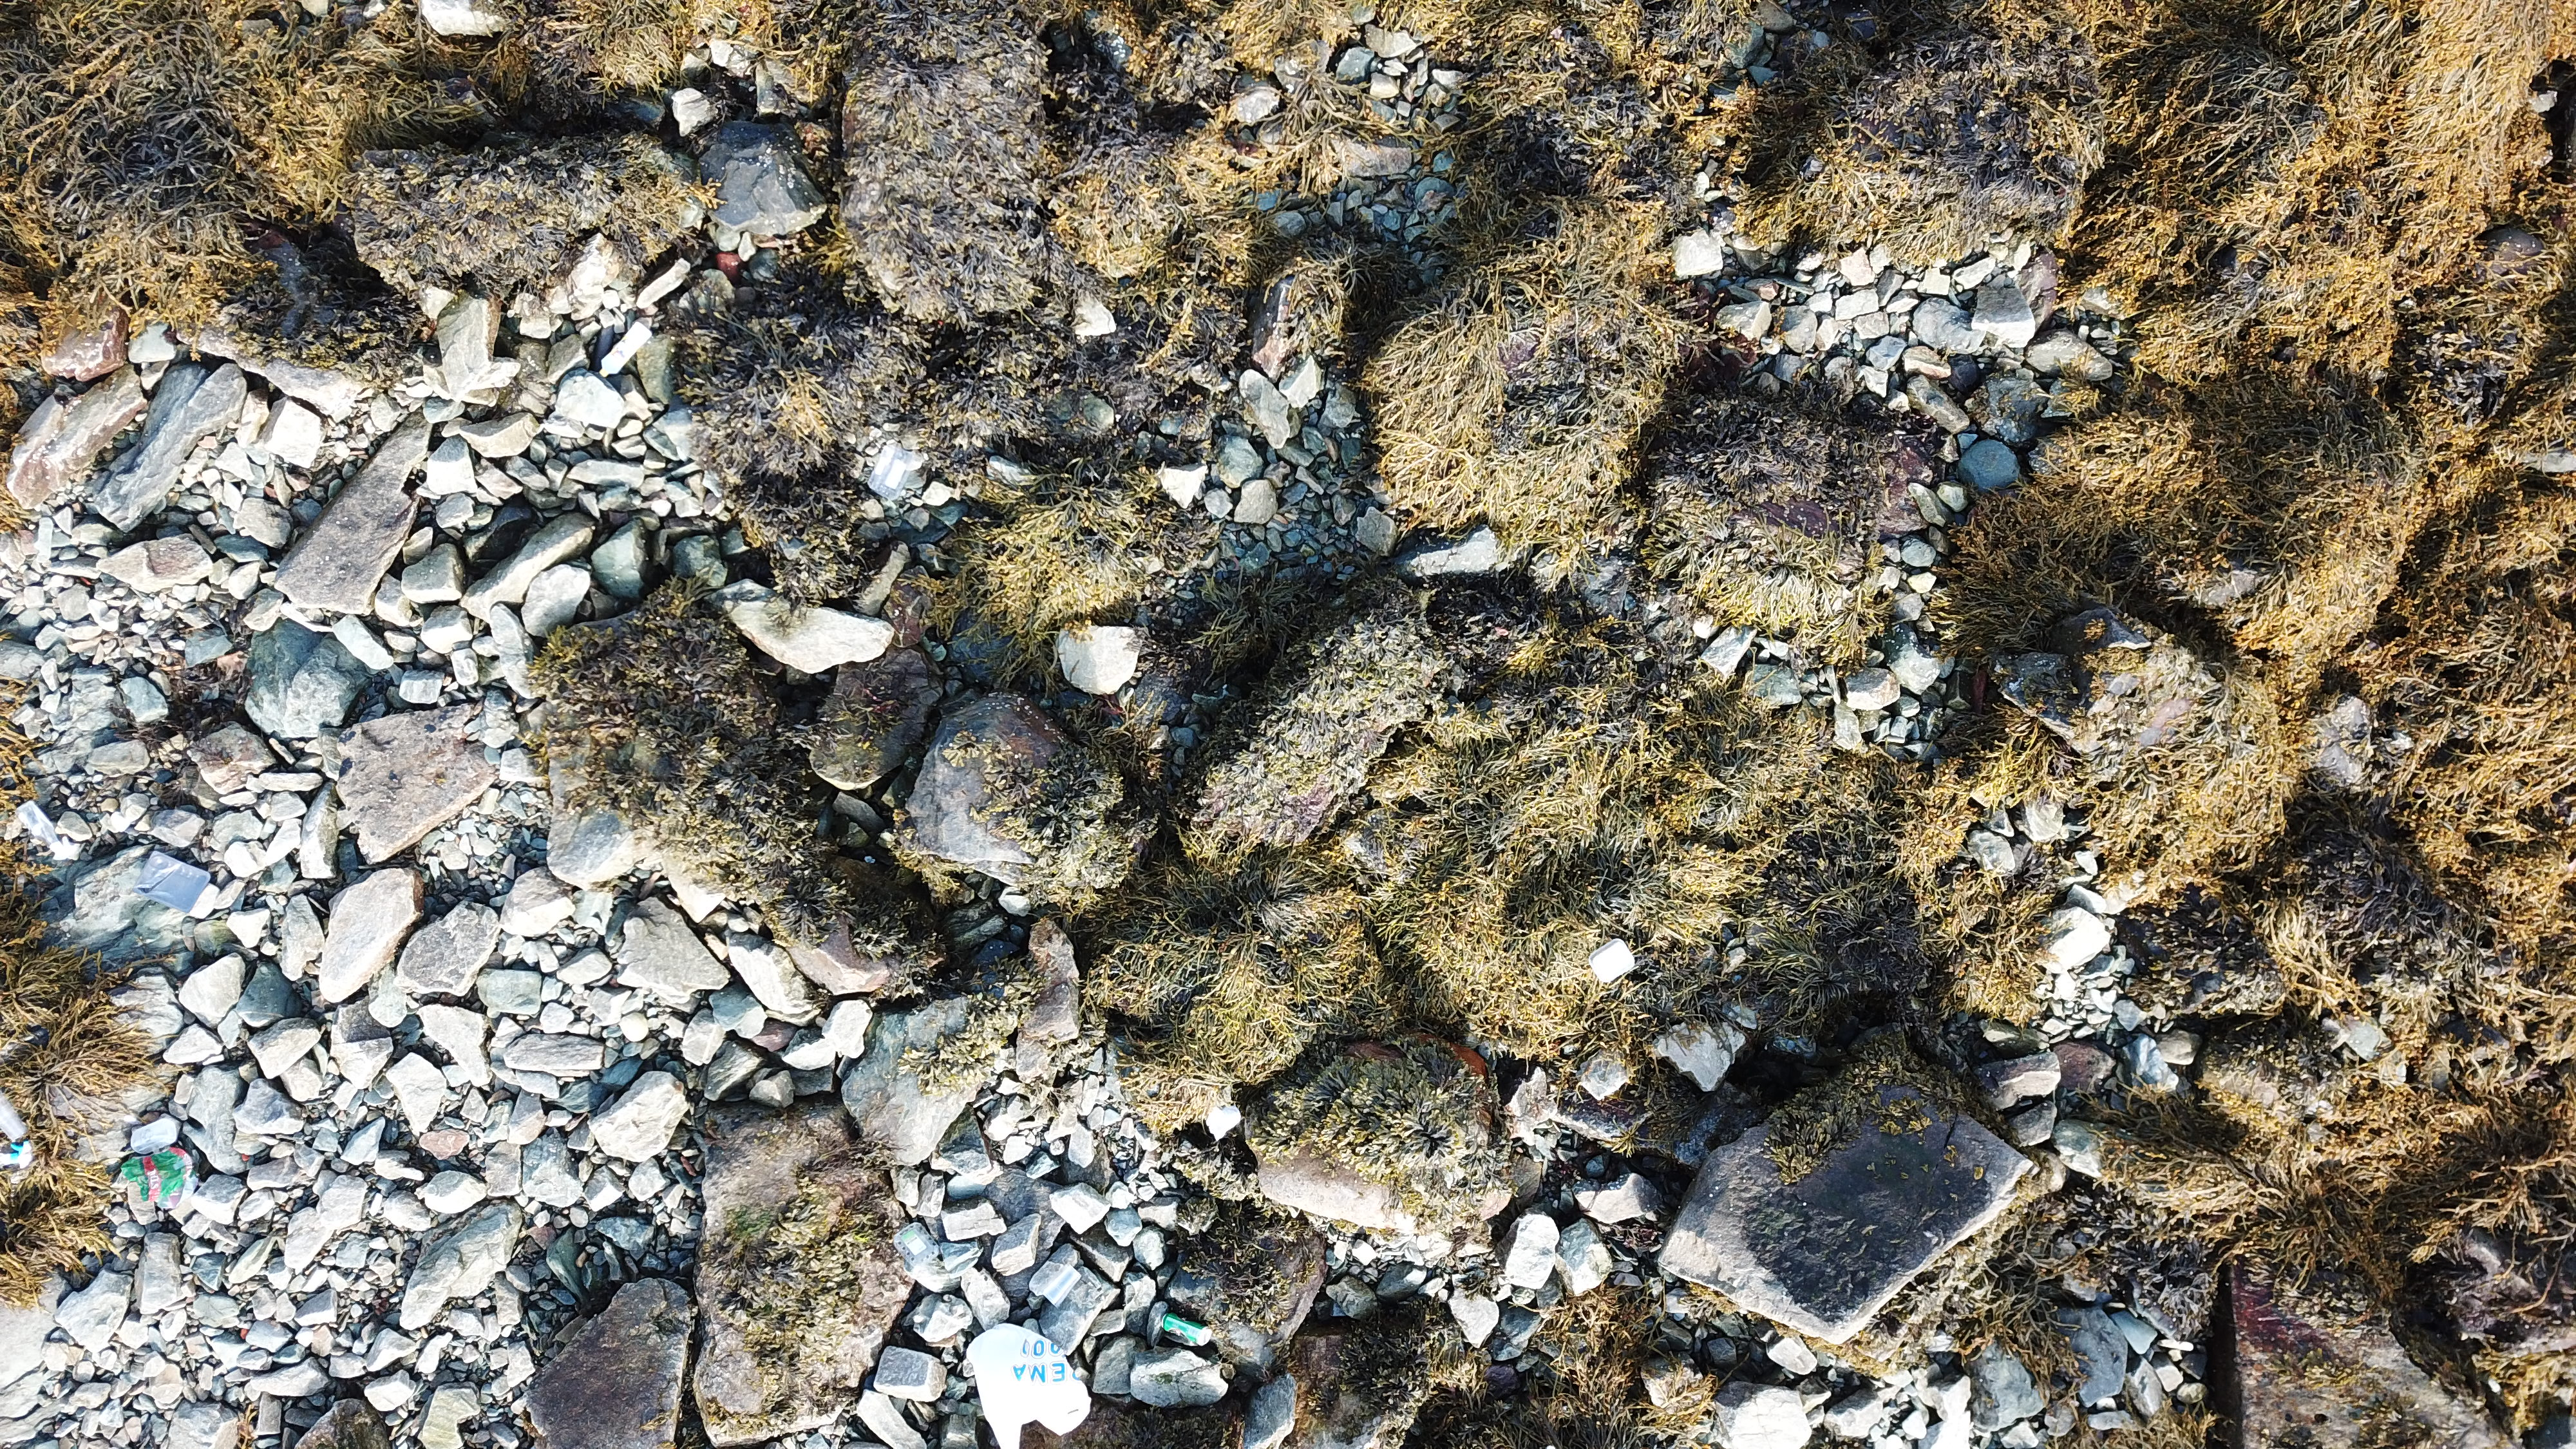Can: (1161, 1313, 1212, 1346)
Plastic: (966, 1322, 1092, 1449), (136, 849, 212, 916), (120, 1148, 200, 1212), (16, 800, 78, 862), (600, 322, 653, 380), (867, 441, 916, 499), (1589, 939, 1637, 985), (893, 1223, 939, 1267), (131, 1118, 179, 1154), (2, 1090, 28, 1143), (1208, 1100, 1242, 1141), (0, 1139, 35, 1173)
